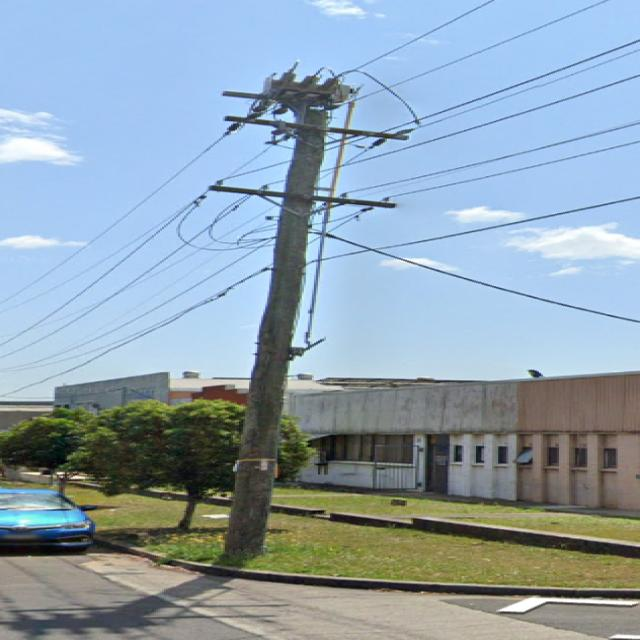HV-switch: (260, 73, 350, 101)
HV-transmission: (221, 90, 409, 148)
crossarm: (221, 115, 407, 140), (206, 185, 393, 208)
timber-pole: (221, 108, 328, 552)
